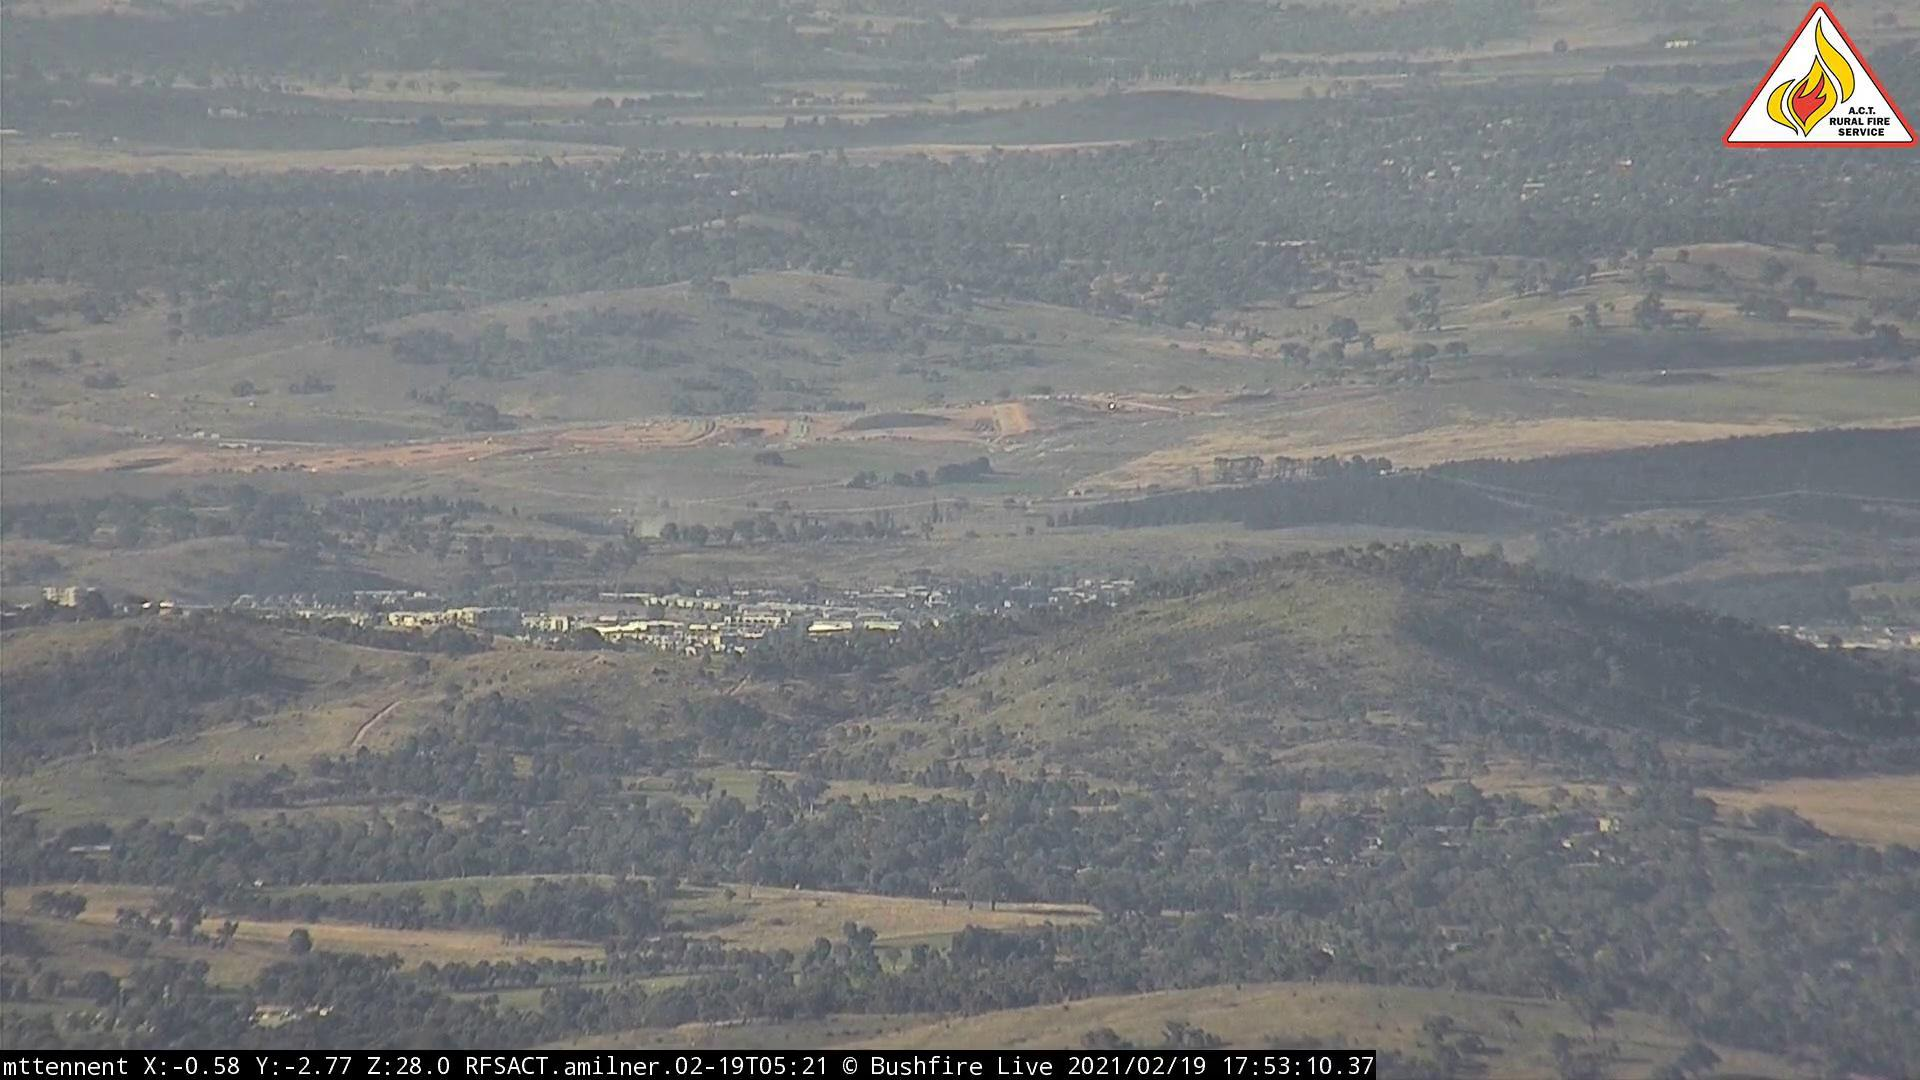Smoke: (626, 483, 686, 545)
